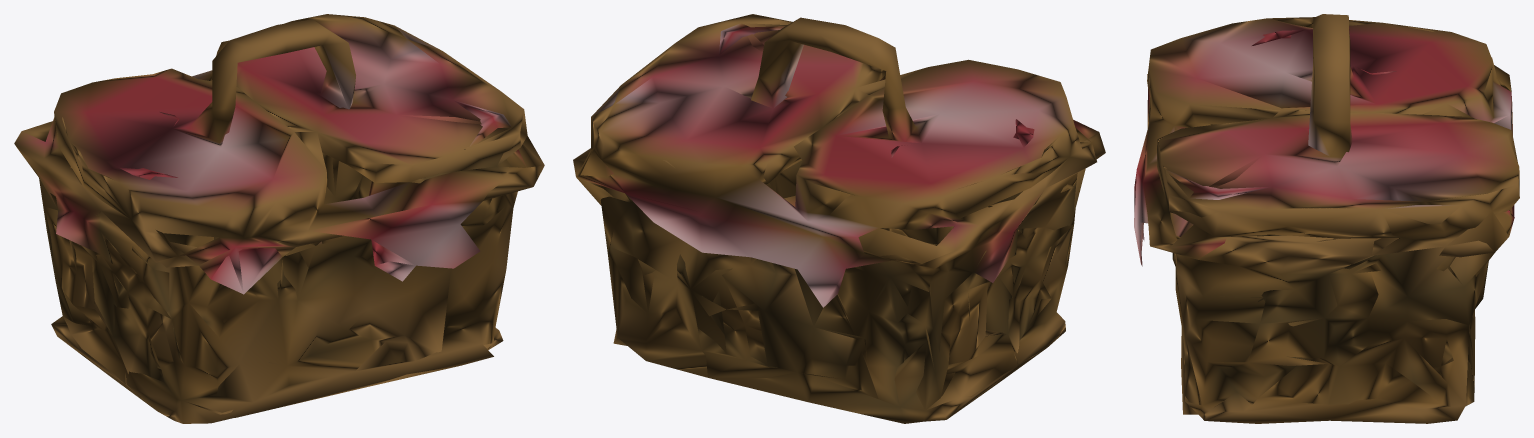
Rendered from gen3d-picnic-basket-lod0.glb.
3 renders of one model, left to right at view 1: azimuth 30°, elevation 25°; view 2: azimuth 150°, elevation 25°; view 3: azimuth 270°, elevation 25°, orthographic. The views are drawn at different scales.
Visible parts, largest first — view 1: part_0; view 2: part_0; view 3: part_0.
Boxes of the visible parts, left/top/right/bottom form: part_0: left=14, top=14, right=544, bottom=423; part_0: left=573, top=14, right=1105, bottom=423; part_0: left=1134, top=14, right=1519, bottom=423.
Size of the model in its own units: 1.33 by 0.9961 by 1.11.
